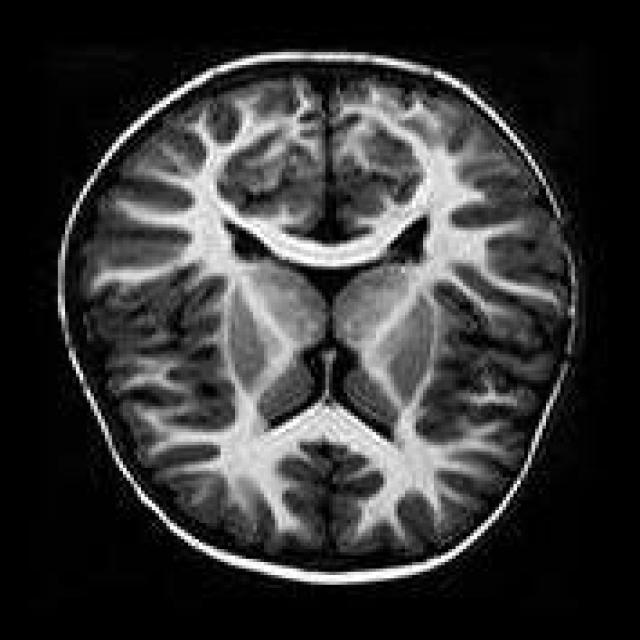notumor: (58, 52, 582, 582)
